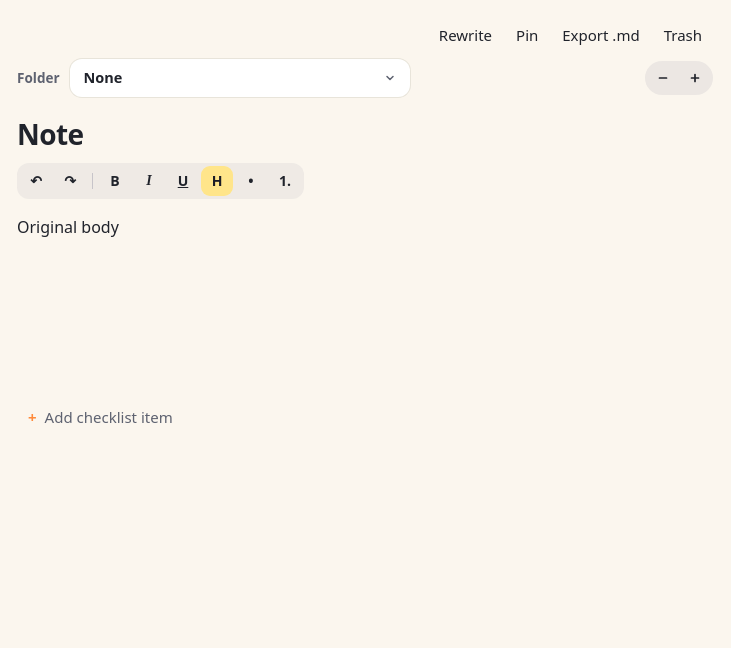
it: does not replace typing added while a rewrite is pending
Click the button "Rewrite": (465, 35) [428,17,503,53]
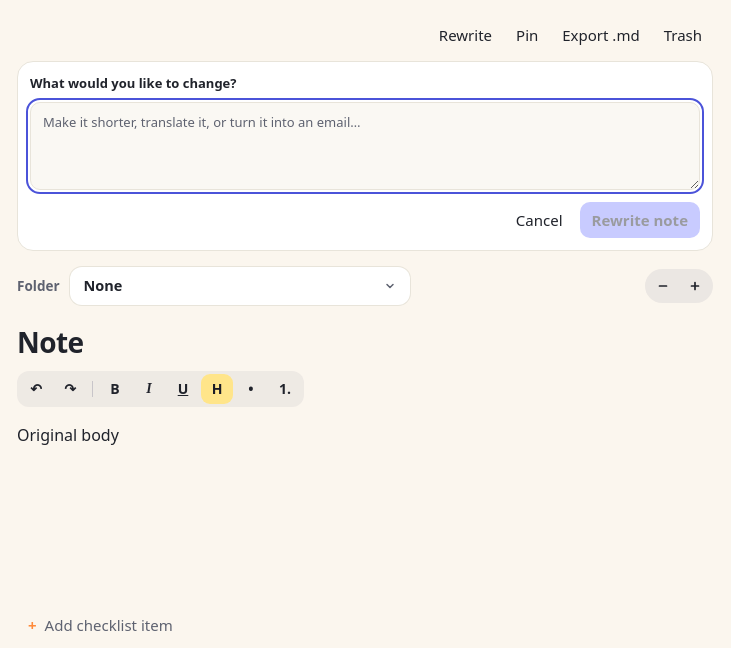
Result: the text box named "Rewrite instruction" is shown
In the text box named "Rewrite instruction": (365, 146) [30,102,700,190], type "Make this shorter"
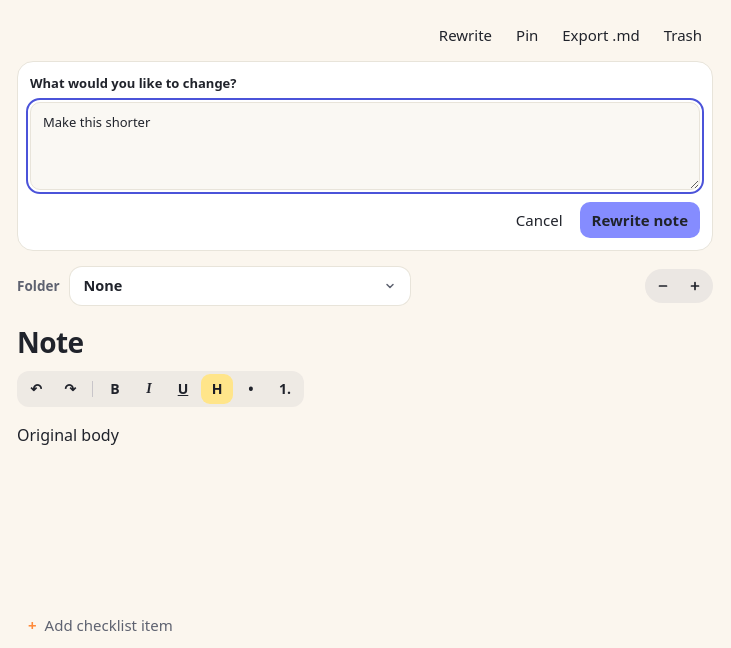
Submit the form named "Rewrite instruction", box [17,61,713,251]
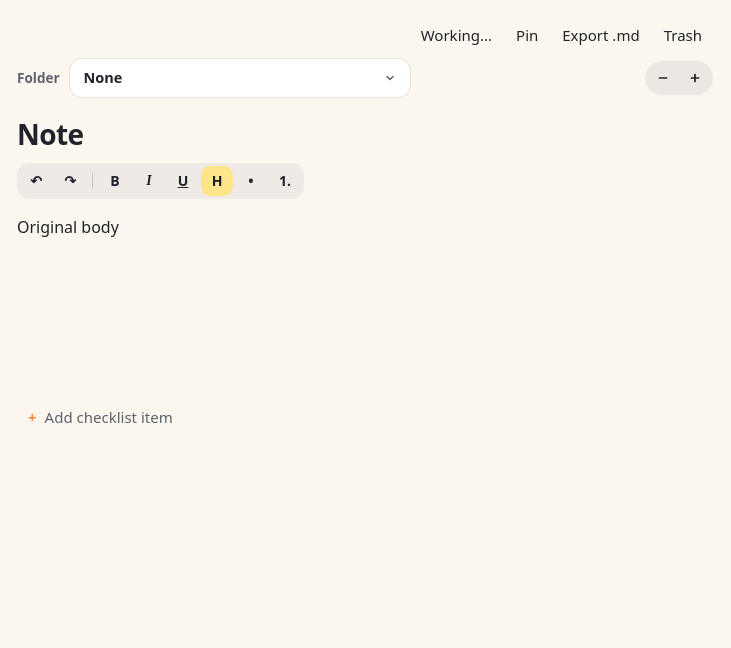
Replace the text in the field named "Title" with "New typing": (365, 131) [17,103,713,159]
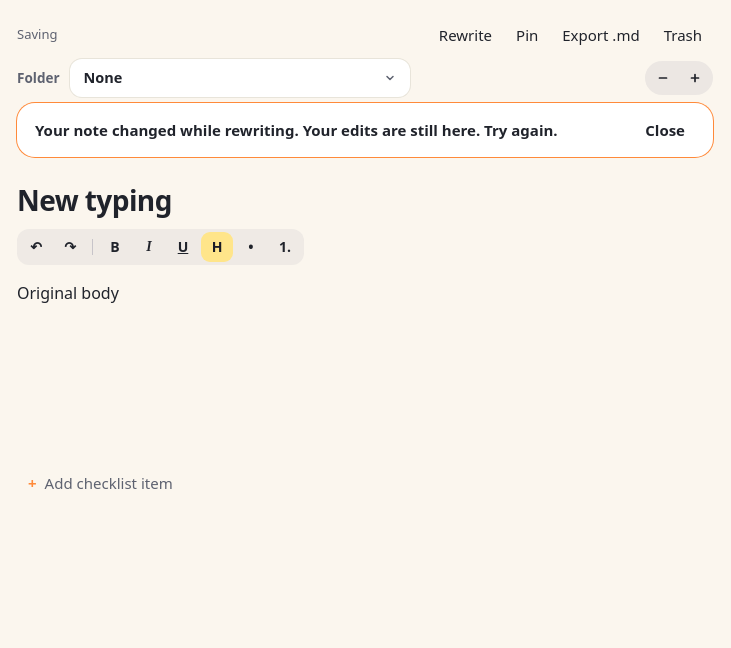
Expected: the field named "Body" reads "Original body", [17,282,119,304]
Result: the text "changed while" is shown at [35,120,558,140]
